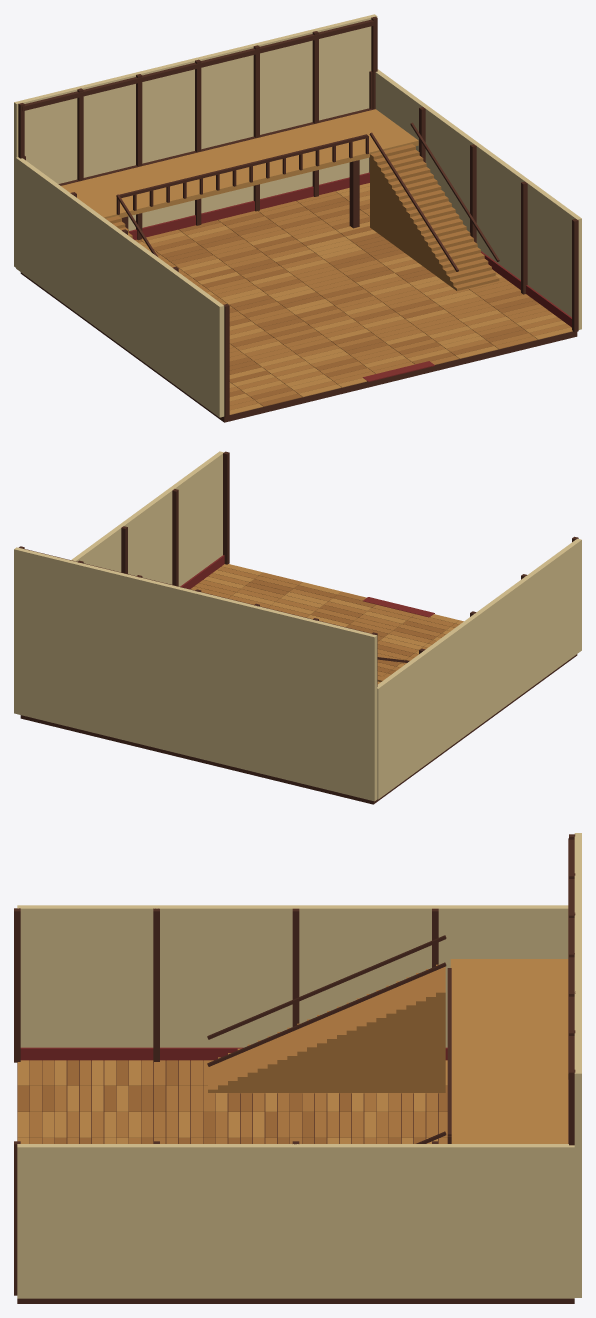
Rendered from SM_Guild_Architecture.fbx.
3 renders of one model, top to bottom at view 1: azimuth 30°, elevation 25°; view 2: azimuth 150°, elevation 25°; view 3: azimuth 270°, elevation 25°, orthographic. The views are drawn at different scales.
Parts seen in each view (by area): view 1: RearWall_1, SideWall_4, SideWall_4.001, UpperGallery_5, FloorSupport_1, RearSkirting_1, RearTie_1.001, UpperGallery_1, RearWall_5, SideWall_5, SideWall_5.001, RearTie_5.001 (+12 smaller); view 2: RearWall_3, SideWall_4, SideWall_4.001, FloorSupport_3, RearWall_5, SideWall_5, SideWall_5.001, RearWall_4, WallPost_3.005, WallPost_3.006, FloorSupport_4; view 3: SideWall_2.001, SideWall_2, UpperGallery_5, FloorSupport_2, FloorSupport_5, WallSkirting_2, SideWall_5.001, SideWall_5, RearWall_5, RearWall_2, RearTie_5.001, WallPost_2 (+14 smaller).
Boxes of the visible parts, x1,y1,x2,y2 form: RearWall_1: (16,16,377,230); SideWall_4: (16,158,219,417); SideWall_4.001: (375,72,575,317); UpperGallery_5: (61,109,418,217); FloorSupport_1: (224,331,577,422); RearSkirting_1: (129,173,369,239); RearTie_1.001: (23,21,375,111); UpperGallery_1: (104,140,418,218); RearWall_5: (14,14,376,103); SideWall_5: (16,157,223,306); SideWall_5.001: (376,69,581,219); RearTie_5.001: (23,19,374,106); RearWall_3: (14,549,374,801); SideWall_4: (378,540,581,799); SideWall_4.001: (76,454,222,586); FloorSupport_3: (20,715,373,804); RearWall_5: (14,547,376,637); SideWall_5: (377,538,581,688); SideWall_5.001: (71,451,223,561); RearWall_4: (374,636,377,800); WallPost_3.005: (223,453,227,564); WallPost_3.006: (172,490,176,585); FloorSupport_4: (373,654,577,803); SideWall_2.001: (17,1147,574,1298); SideWall_2: (20,908,568,1047); UpperGallery_5: (450,959,568,1143); FloorSupport_2: (17,1298,574,1303); FloorSupport_5: (17,1061,438,1143); WallSkirting_2: (20,1048,447,1060); SideWall_5.001: (17,1144,574,1147); SideWall_5: (17,905,568,908); RearWall_5: (574,833,581,1073); RearWall_2: (574,1073,581,1297); RearTie_5.001: (568,838,574,1073); WallPost_2: (14,911,20,1062).
Bounding box in the file's own units: 1848 × 1835 × 830.
